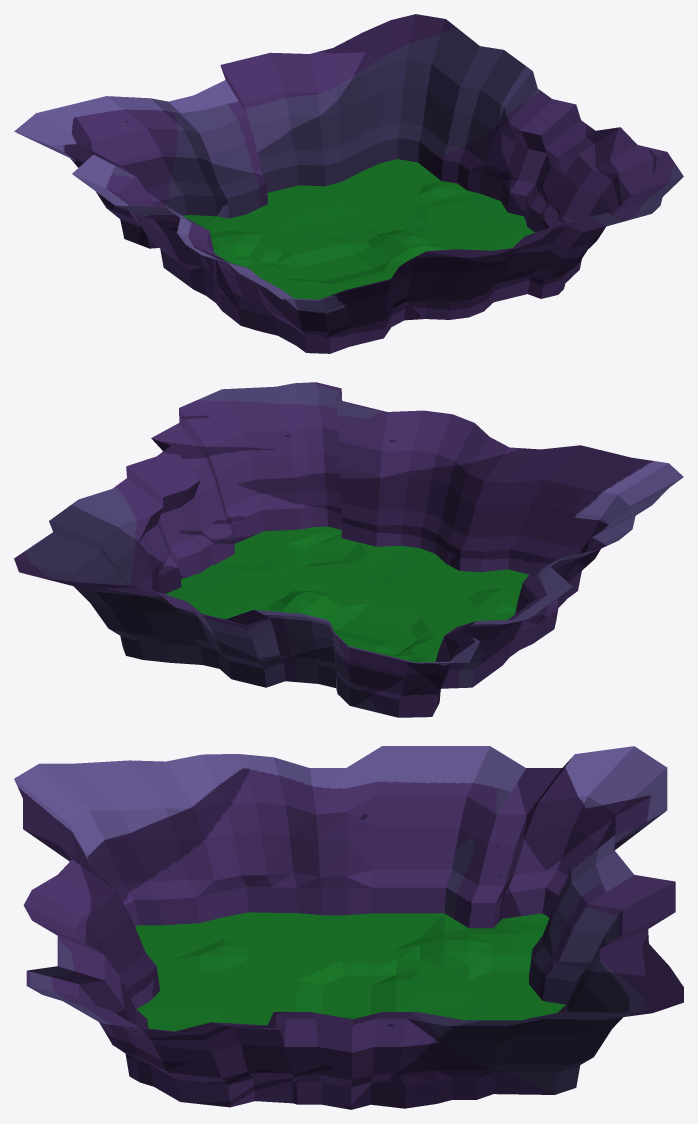
File: Batalla Verde 1.fbx
3 views of the same model, one above another, from view 1: azimuth 30°, elevation 25°; view 2: azimuth 150°, elevation 25°; view 3: azimuth 270°, elevation 25° (orthographic). The views are drawn at different scales.
Parts seen in each view (by area): view 1: Plane; view 2: Plane; view 3: Plane.
Boxes of the visible parts, bbox=[...] form: Plane: bbox=[14, 14, 683, 353]; Plane: bbox=[14, 382, 683, 717]; Plane: bbox=[14, 746, 683, 1109].
Size of the model in its own units: 51659 by 51262 by 10811.
2 materials, 1 textured.
